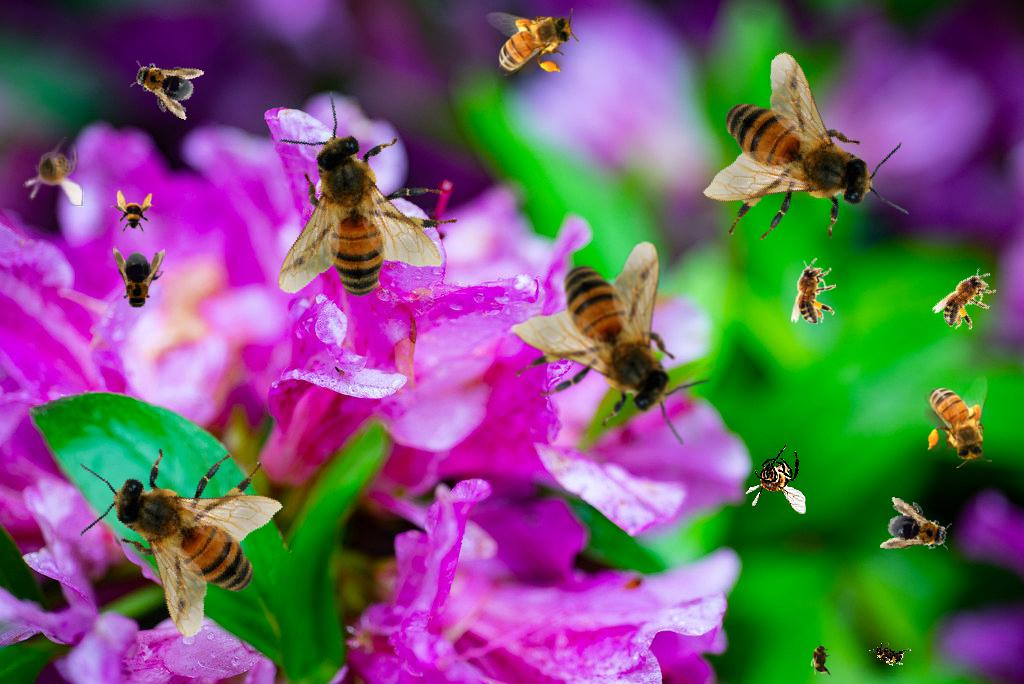Bee: (662, 21, 935, 297), (224, 79, 487, 345), (53, 397, 316, 663), (513, 241, 712, 445), (486, 8, 579, 76), (924, 375, 992, 468), (930, 258, 1006, 339), (123, 49, 205, 121), (879, 496, 957, 562), (22, 136, 85, 208), (745, 444, 806, 514), (113, 246, 165, 314), (791, 258, 836, 324), (110, 190, 154, 234), (866, 637, 912, 671), (810, 639, 832, 679)
